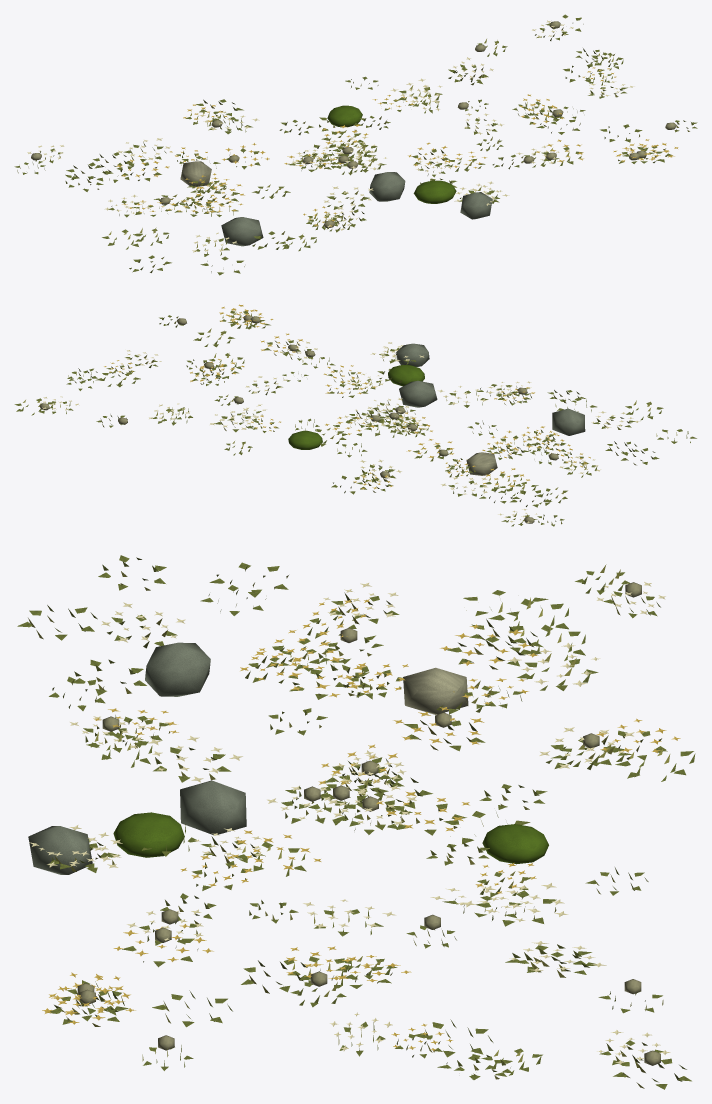
File: detail-patch-05-02.fbx
3 views of the same model, one above another, from view 1: azimuth 30°, elevation 25°; view 2: azimuth 150°, elevation 25°; view 3: azimuth 270°, elevation 25° (orthographic). The views are drawn at different scales.
Parts seen in each view (by area): view 1: detail-patch-05-02__Geometry; view 2: detail-patch-05-02__Geometry; view 3: detail-patch-05-02__Geometry.
Boxes of the visible parts, x1,y1,x2,y2 form: detail-patch-05-02__Geometry: (14,14,697,275); detail-patch-05-02__Geometry: (14,304,696,526); detail-patch-05-02__Geometry: (17,555,695,1089).
Bounding box in the file's own units: 9.69 × 0.4579 × 5.2.
